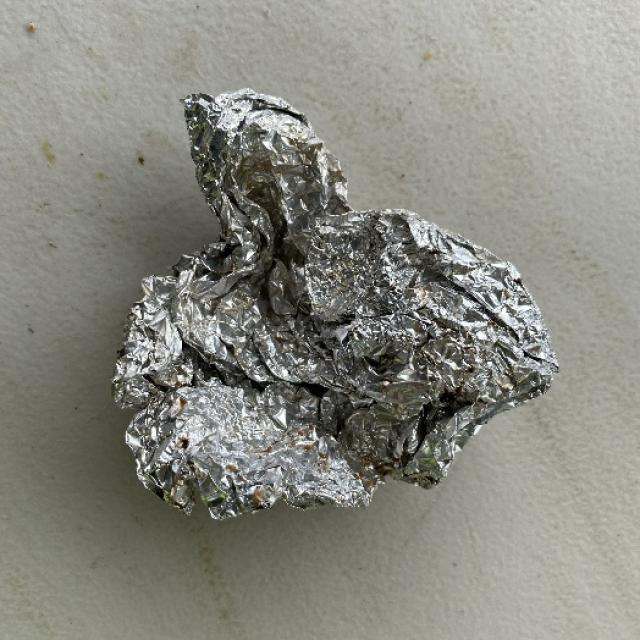inorganic: (105, 90, 564, 522)
